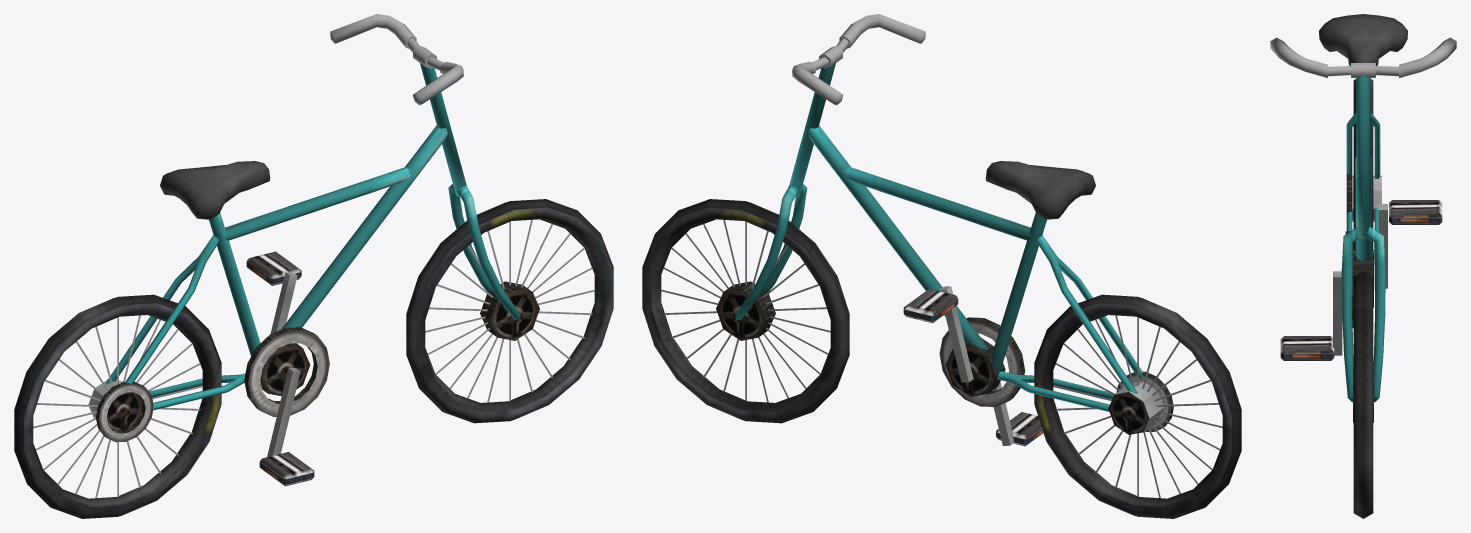
Rendered from bicycle.fbx.
3 views of the same model, side by side, from view 1: azimuth 30°, elevation 25°; view 2: azimuth 150°, elevation 25°; view 3: azimuth 270°, elevation 25° (orthographic). The views are drawn at different scales.
Parts seen in each view (by area): view 1: polySurface45; view 2: polySurface45; view 3: polySurface45.
Part boxes in pixels (x1,y1,x2,y2): polySurface45: (14, 14, 613, 518); polySurface45: (642, 14, 1241, 518); polySurface45: (1270, 14, 1456, 518).
Bounding box in the file's own units: 7.99 × 5.13 × 2.1.
